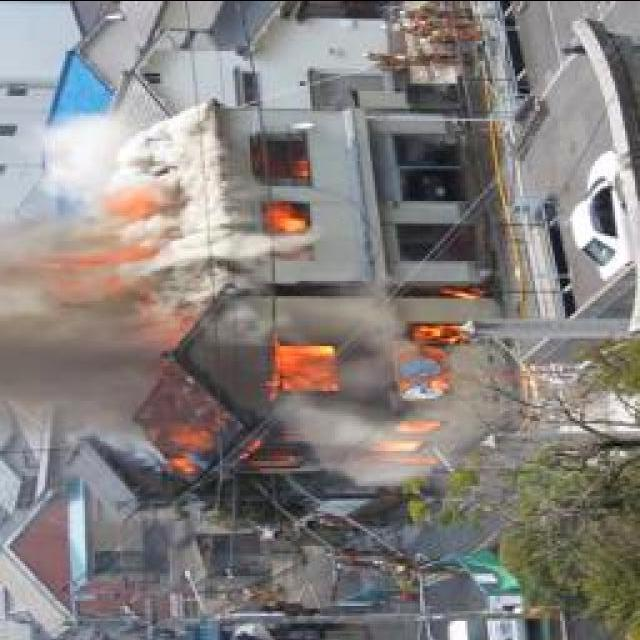Fire: (164, 320, 475, 476), (70, 180, 152, 288), (268, 147, 310, 230)
